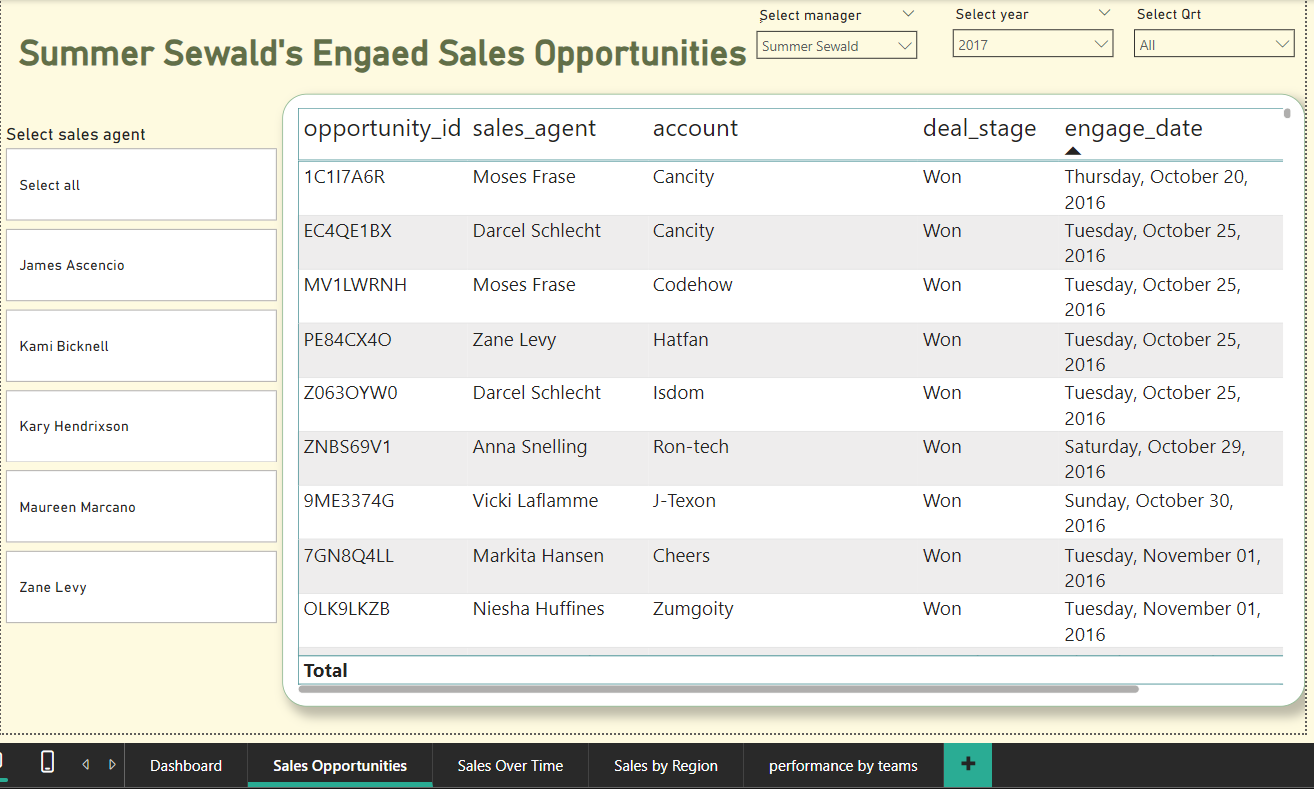

Layout of this report page (visuals, bound fields, positions):
{"tool":"powerbi","page":{"name":"Sales Opportunities","canvas":[1280,720],"ordinal":1},"visuals":[{"type":"slicer","fields":{"Values":["sales_teams.manager"]},"box":[814.3,0,171.3,61.5],"z":0},{"type":"slicer","fields":{"Values":["Calendar.year"]},"box":[989.3,0,149.6,61.5],"z":1000},{"type":"slicer","fields":{"Values":["Calendar.Qrt"]},"box":[1141.2,0,138.8,61.2],"z":2000},{"type":"advancedSlicerVisual","fields":{"Values":["sales_pipeline.sales_agent"]},"box":[0,121.5,276.1,496.9],"z":3000},{"type":"tableEx","fields":{"Values":["sales_pipeline.opportunity_id","sales_pipeline.sales_agent","sales_pipeline.account","sales_pipeline.deal_stage","sales_pipeline.engage_date","measures1.Potential Sales"]},"box":[276.1,92,1003.7,601.2],"z":4000},{"type":"card","fields":{"Values":["measures1.Welcome Sales Opp"]},"box":[0,0,802.3,61.5],"z":5000}]}

Visuals, with their boxes on the page's 1280x720 design canvas (x1, y1, x2, y2). These are canvas units, not pixel positions in the 1314x789 screenshot, which may show the page scaled, cropped or inside an application window:
slicer - sales_teams.manager: 814:0:986:62
slicer - Calendar.year: 989:0:1139:62
slicer - Calendar.Qrt: 1141:0:1280:61
advancedSlicerVisual - sales_pipeline.sales_agent: 0:122:276:618
tableEx - sales_pipeline.opportunity_id x sales_pipeline.sales_agent: 276:92:1280:693
card - measures1.Welcome Sales Opp: 0:0:802:62
